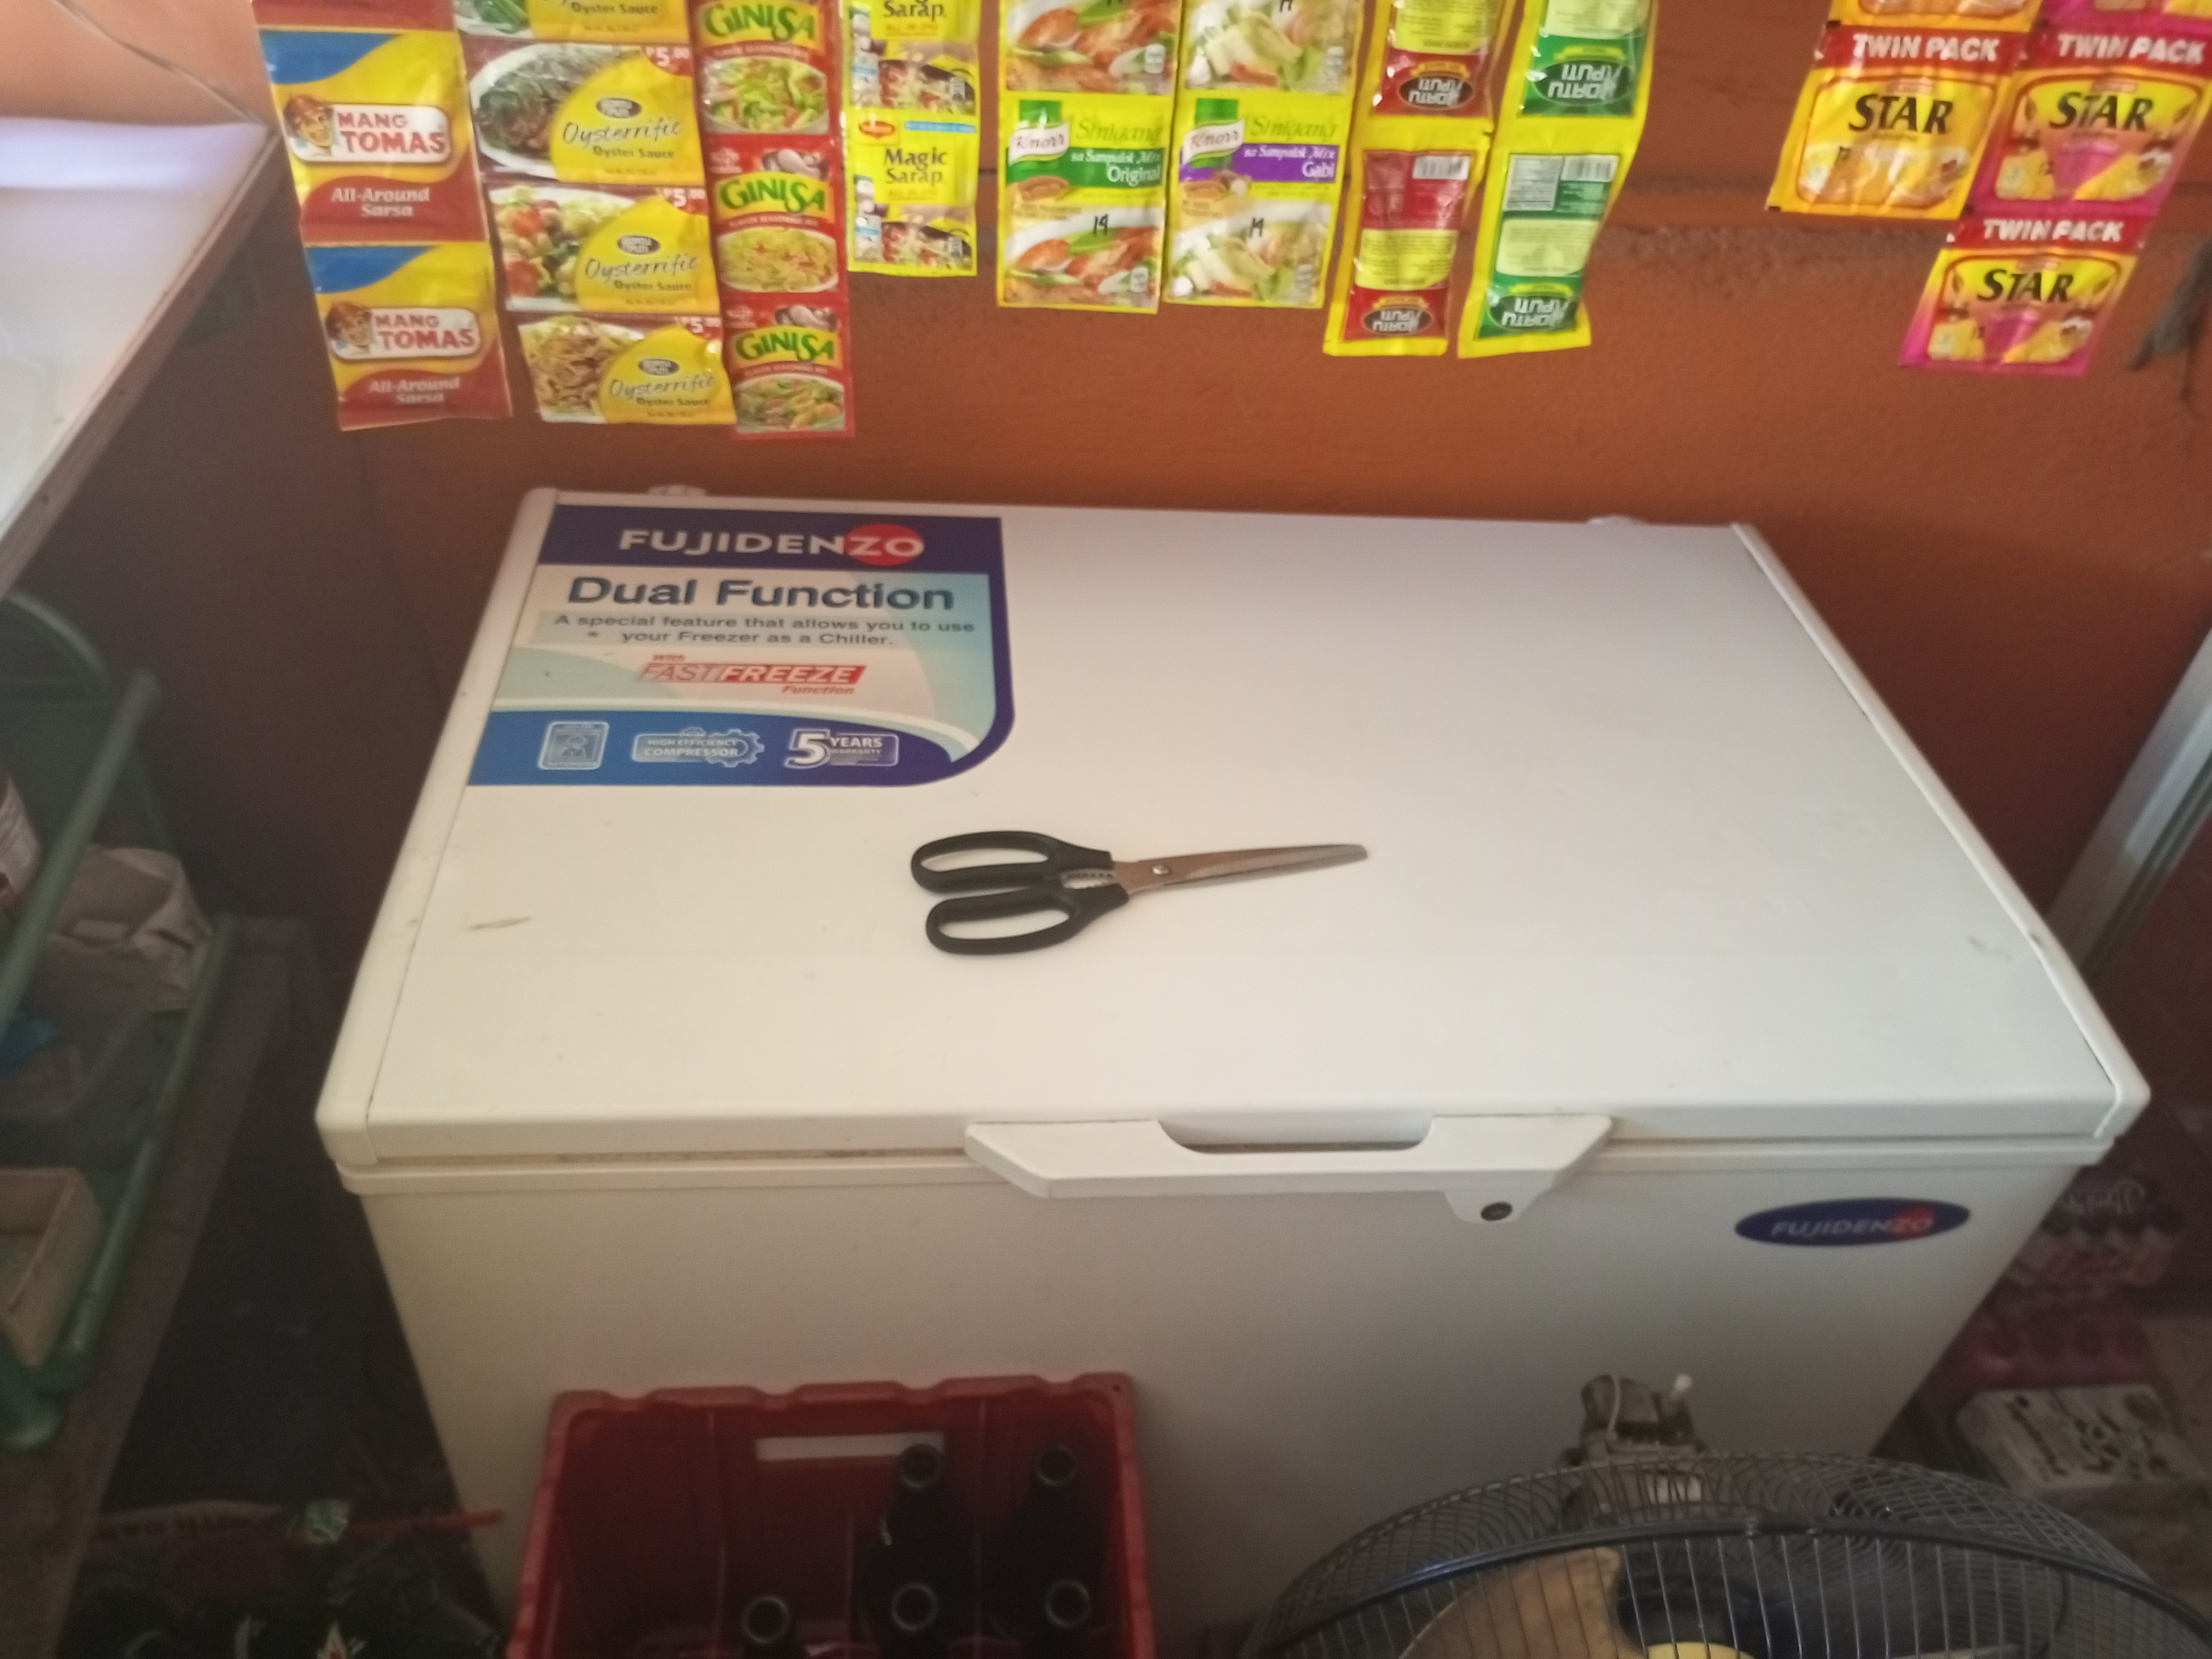scissor: (920, 831, 1366, 946)
